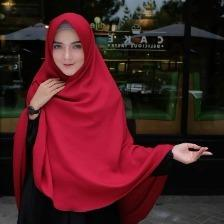HijabSyar-i: (10, 9, 176, 224)
